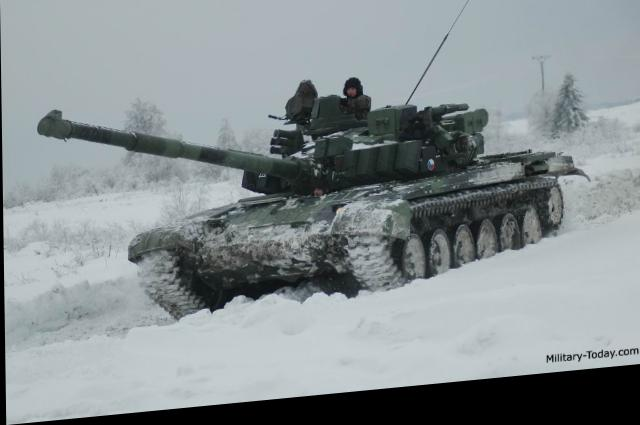other: (336, 79, 371, 111)
tank: (126, 87, 587, 300)
